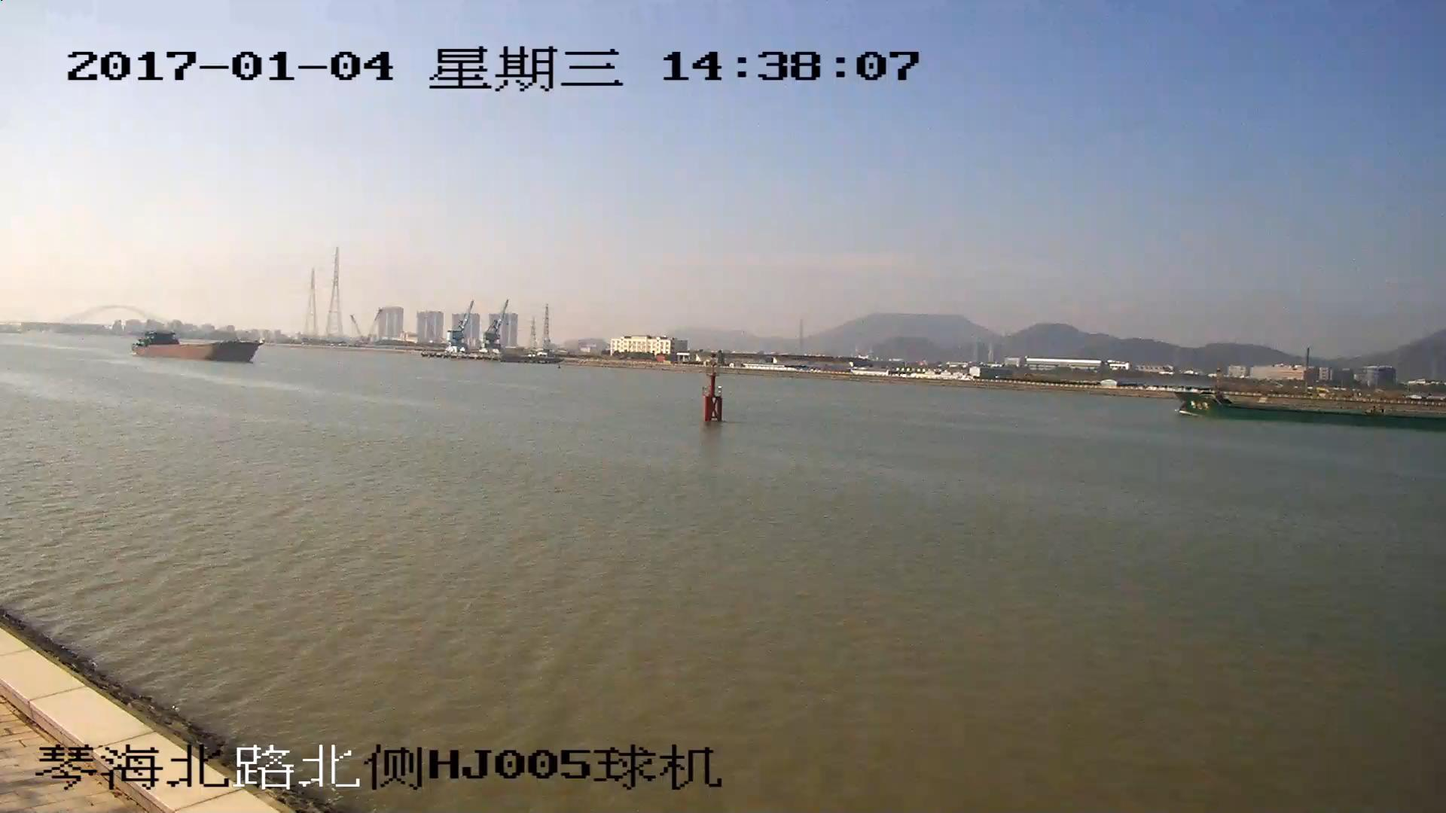general cargo ship: (1175, 385, 1445, 430)
